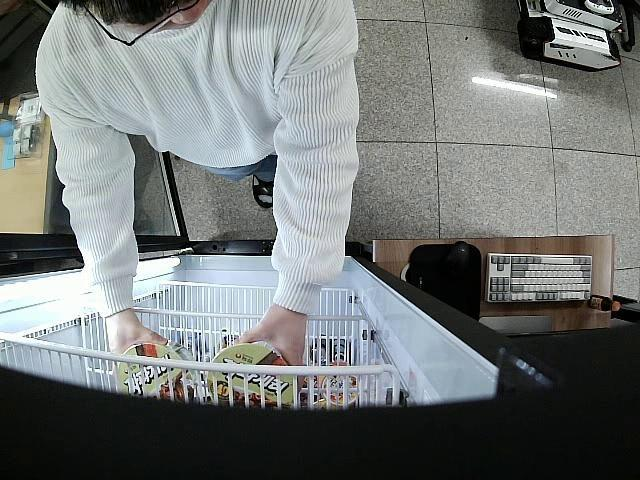03_chapagetti_L: (206, 344, 294, 409), (114, 344, 198, 406)
